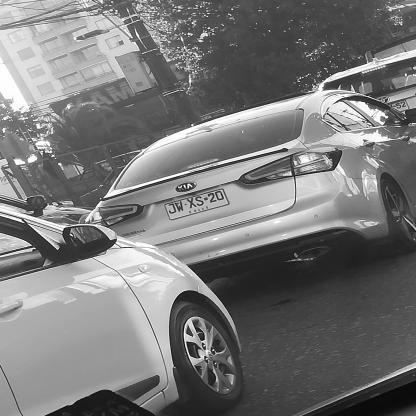Patente: (165, 188, 230, 220)
